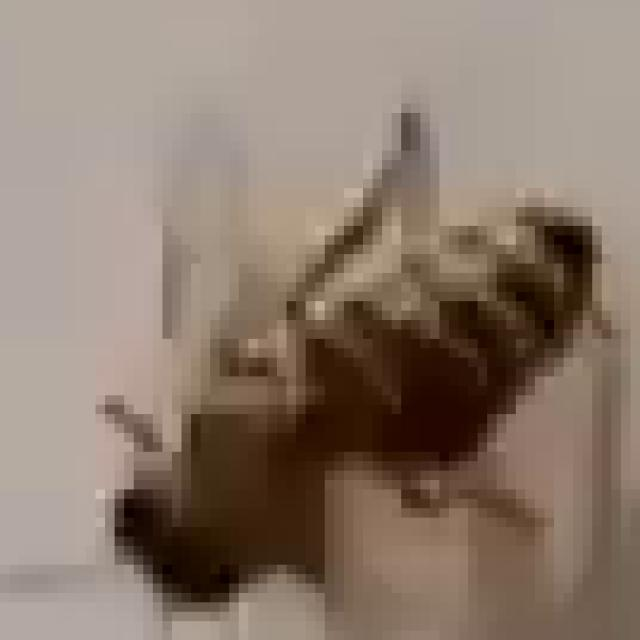honeybee: (126, 92, 592, 608)
